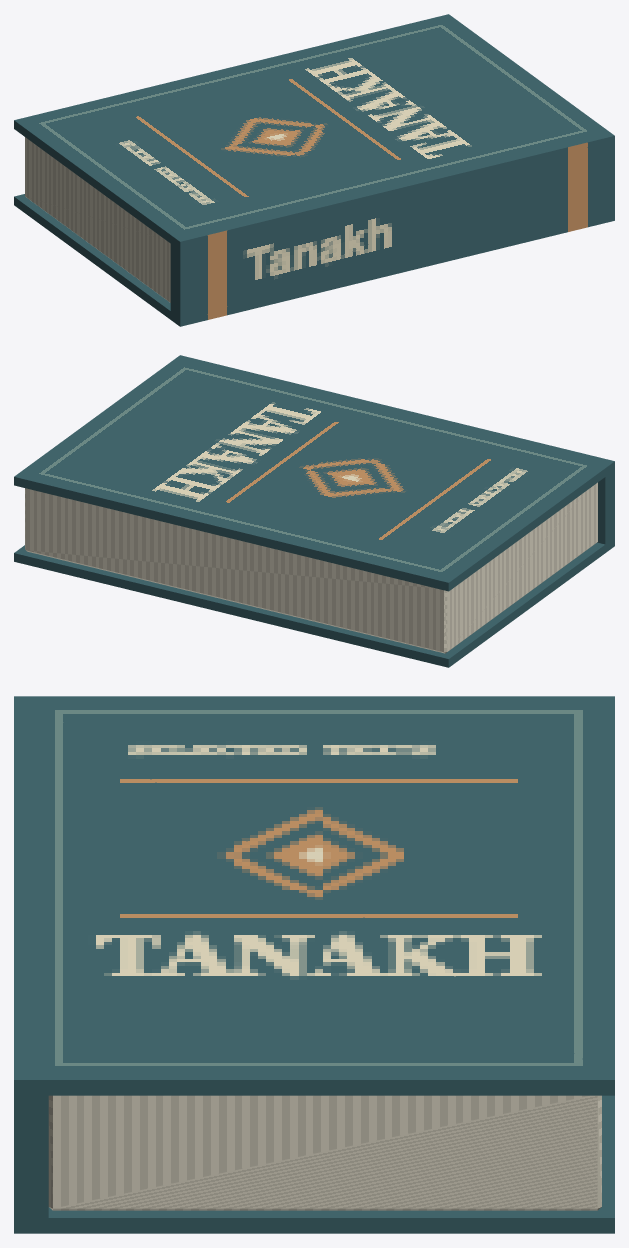
The model's file is holybook_tanakh.glb.
3 renders of one model, top to bottom at view 1: azimuth 30°, elevation 25°; view 2: azimuth 150°, elevation 25°; view 3: azimuth 270°, elevation 25°, orthographic. The views are drawn at different scales.
Parts seen in each view (by area): view 1: block_front, block_spine, block_pages, block_back; view 2: block_front, block_pages, block_back, block_spine; view 3: block_front, block_pages, block_spine, block_back.
Part boxes in pixels (x1,y1,x2,y2): block_front: (14,14,604,247); block_spine: (170,129,614,326); block_pages: (25,137,170,302); block_back: (14,194,177,324); block_front: (14,357,612,591); block_pages: (25,482,597,653); block_back: (14,539,612,667); block_spine: (172,355,614,547); block_front: (22,696,614,1095); block_pages: (48,1095,601,1210); block_spine: (14,696,48,1233); block_back: (22,1095,614,1233).
Bounding box in the file's own units: 0.247 × 0.0461 × 0.1635.
1 material, 1 textured.
